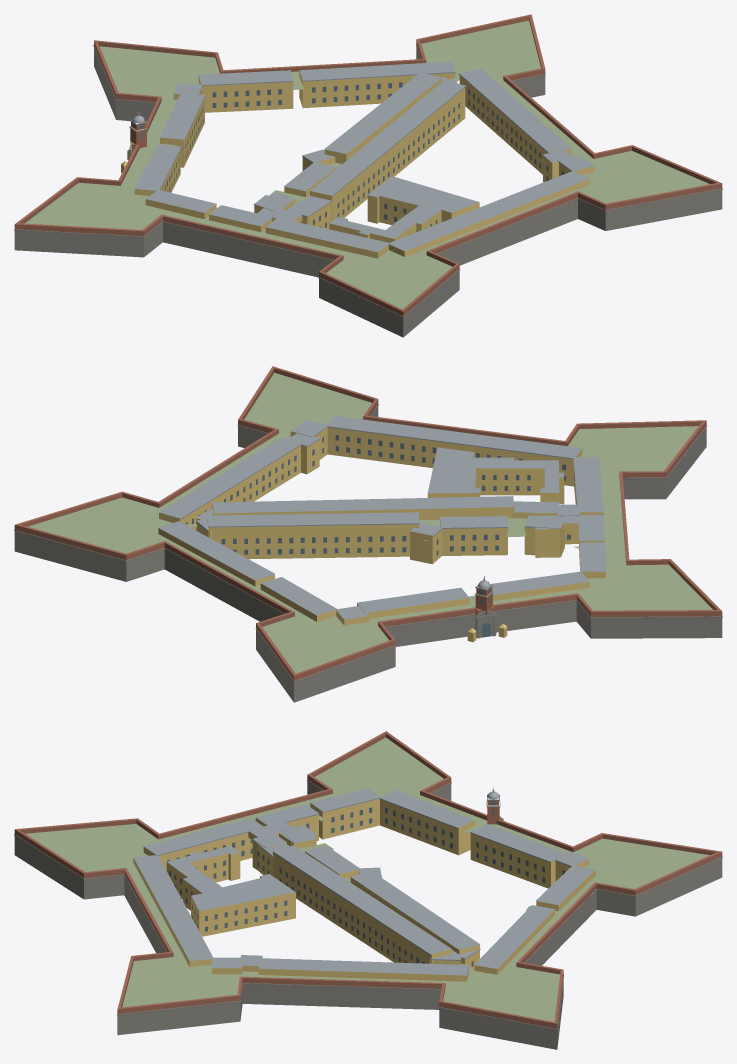
The model's file is cpt-castle-of-good-hope.glb.
3 views of the same model, one above another, from view 1: azimuth 30°, elevation 25°; view 2: azimuth 150°, elevation 25°; view 3: azimuth 270°, elevation 25° (orthographic). The views are drawn at different scales.
Visible parts, largest first — view 1: Castle of Good Hope; view 2: Castle of Good Hope; view 3: Castle of Good Hope.
Boxes of the visible parts, x1=… form: Castle of Good Hope: x1=14, y1=14, x2=722, y2=337; Castle of Good Hope: x1=14, y1=366, x2=722, y2=702; Castle of Good Hope: x1=14, y1=731, x2=722, y2=1049.
Size of the model in its own units: 228 by 20.4 by 233.
